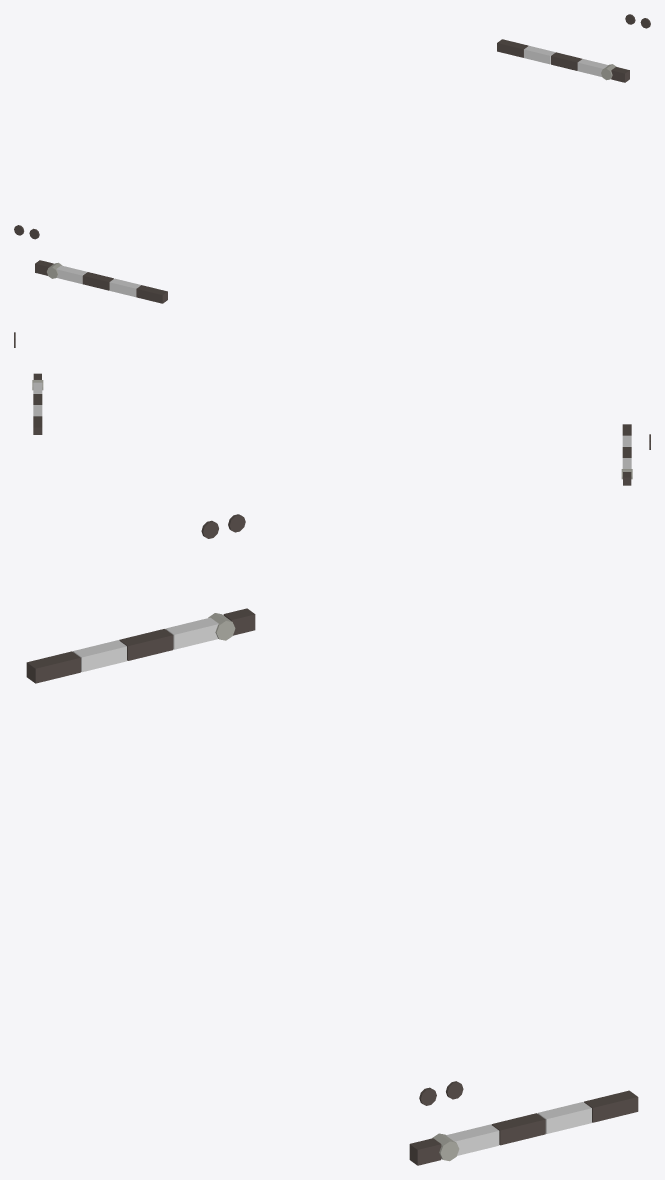
Rendered from SM_PasoNivel_30E_v4_Catenaria_LOD1.fbx.
3 renders of one model, top to bottom at view 1: azimuth 30°, elevation 25°; view 2: azimuth 150°, elevation 25°; view 3: azimuth 270°, elevation 25°, orthographic. The views are drawn at different scales.
Visible parts, largest first — view 1: Barrera_2, Barrera_1; view 2: Barrera_2, Barrera_1; view 3: Barrera_1, Barrera_2.
Part boxes in pixels (left/top/right/bottom): Barrera_2: left=35, top=260, right=167, bottom=303; Barrera_1: left=497, top=39, right=629, bottom=82; Barrera_2: left=621, top=424, right=632, bottom=485; Barrera_1: left=32, top=373, right=43, bottom=434; Barrera_1: left=409, top=1090, right=638, bottom=1165; Barrera_2: left=26, top=608, right=255, bottom=683.
Size of what is drawn, in the model's own units: 24.99 by 1.91 by 11.16.
